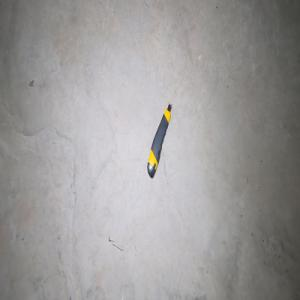Cutter: (146, 103, 172, 179)
